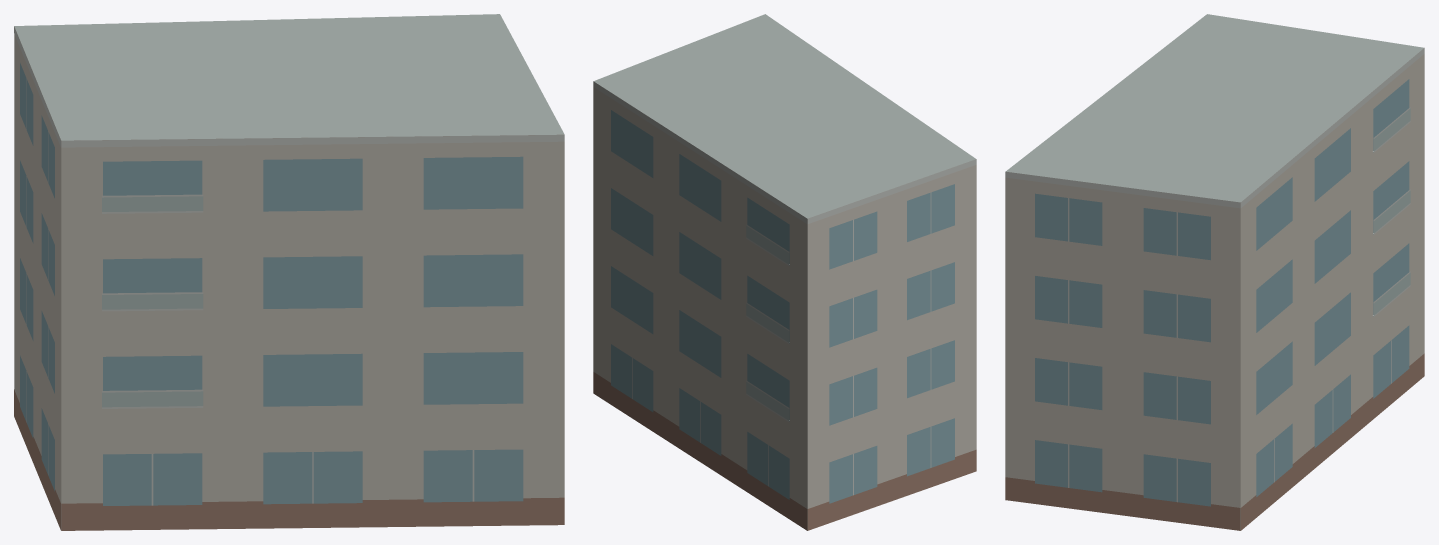
The model's file is survey-upis-32477250.glb.
3 renders of one model, left to right at view 1: azimuth 30°, elevation 25°; view 2: azimuth 150°, elevation 25°; view 3: azimuth 270°, elevation 25°, orthographic. The views are drawn at different scales.
Parts seen in each view (by area): view 1: survey-upis-32477250.tmp; view 2: survey-upis-32477250.tmp; view 3: survey-upis-32477250.tmp.
Part boxes in pixels (left/top/right/bottom): survey-upis-32477250.tmp: left=14, top=14, right=564, bottom=530; survey-upis-32477250.tmp: left=593, top=14, right=976, bottom=530; survey-upis-32477250.tmp: left=1005, top=14, right=1424, bottom=530.
Bounding box in the file's own units: 16.62 × 13.5 × 15.62.
